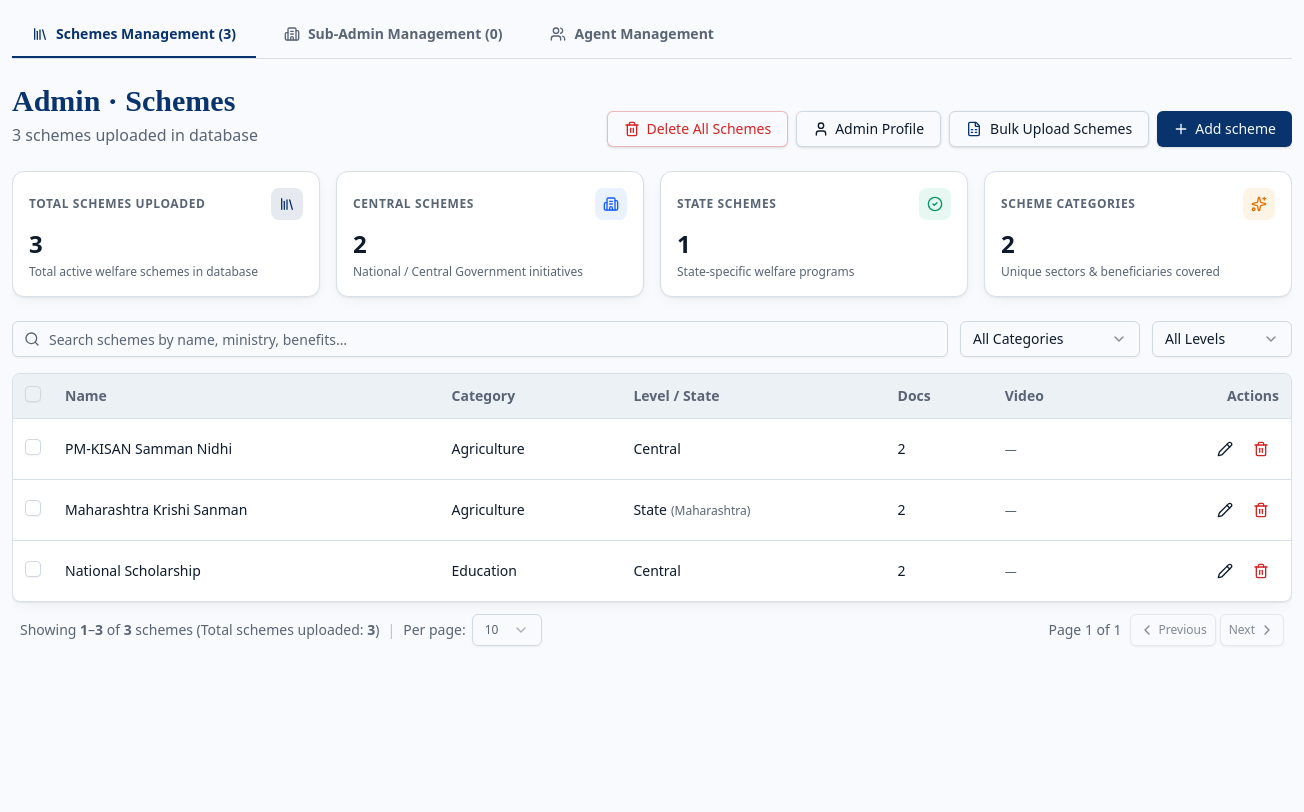
Scenario: Admin Bulk Delete Schemes Functionality › allows selecting all schemes at once using the Select All checkbox
// Click Select All
Click the checkbox with test id "select-all-checkbox".
click(33, 394)  # box [25,386,41,402]
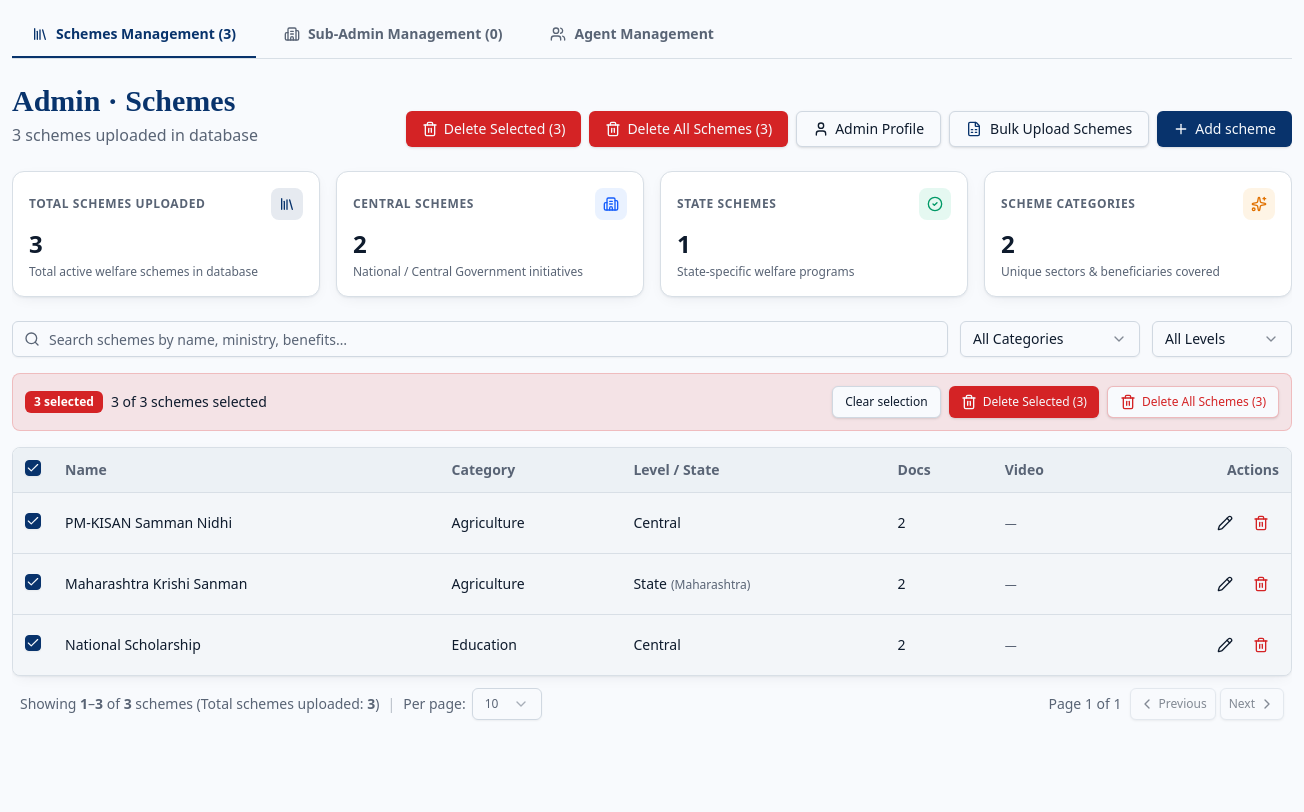
Expected: the text "3 selected" is shown, [25,391,103,413]
Expected: the button with test id "bulk-delete-button" reads "Delete Selected (3)", [949,386,1099,418]
// Click Select All again to deselect all
Click the checkbox with test id "select-all-checkbox".
click(33, 468)  # box [25,460,41,476]
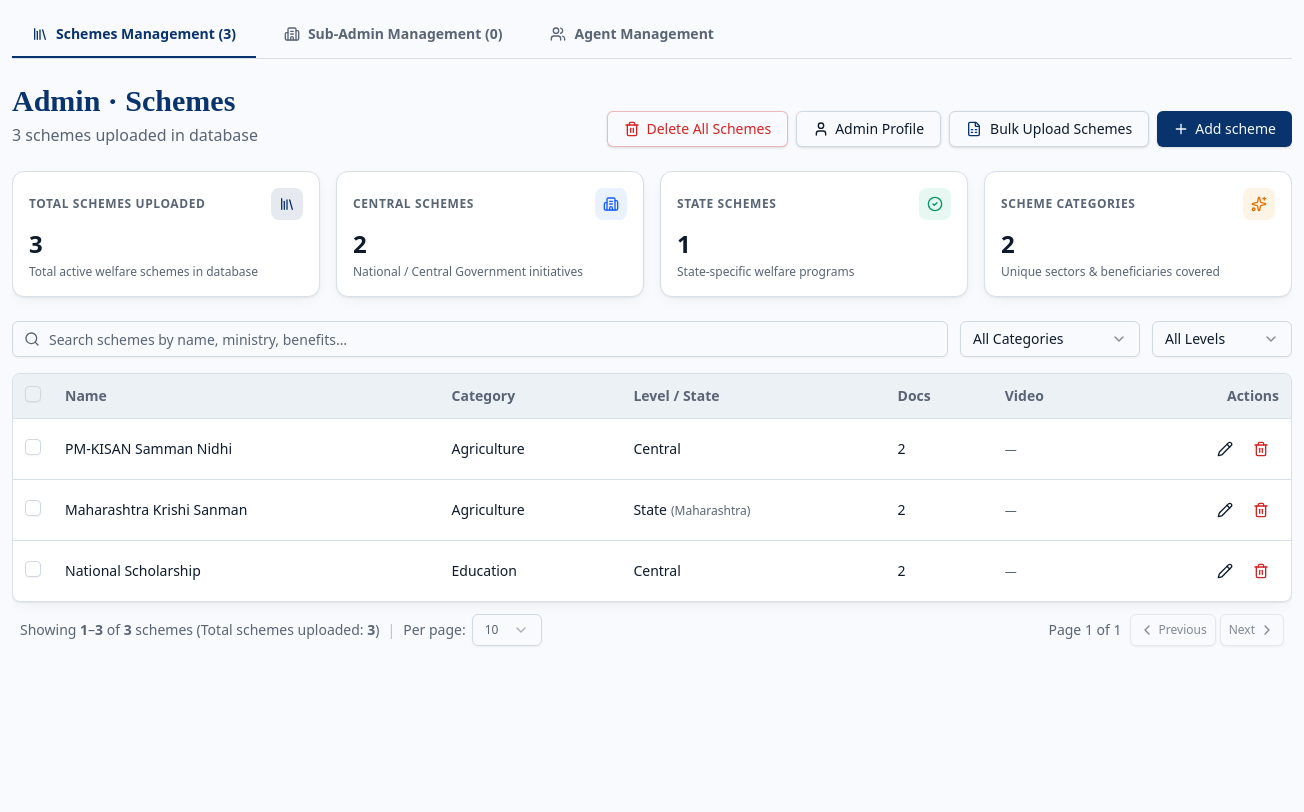
Expected: the element with test id "bulk-actions-bar" is gone
